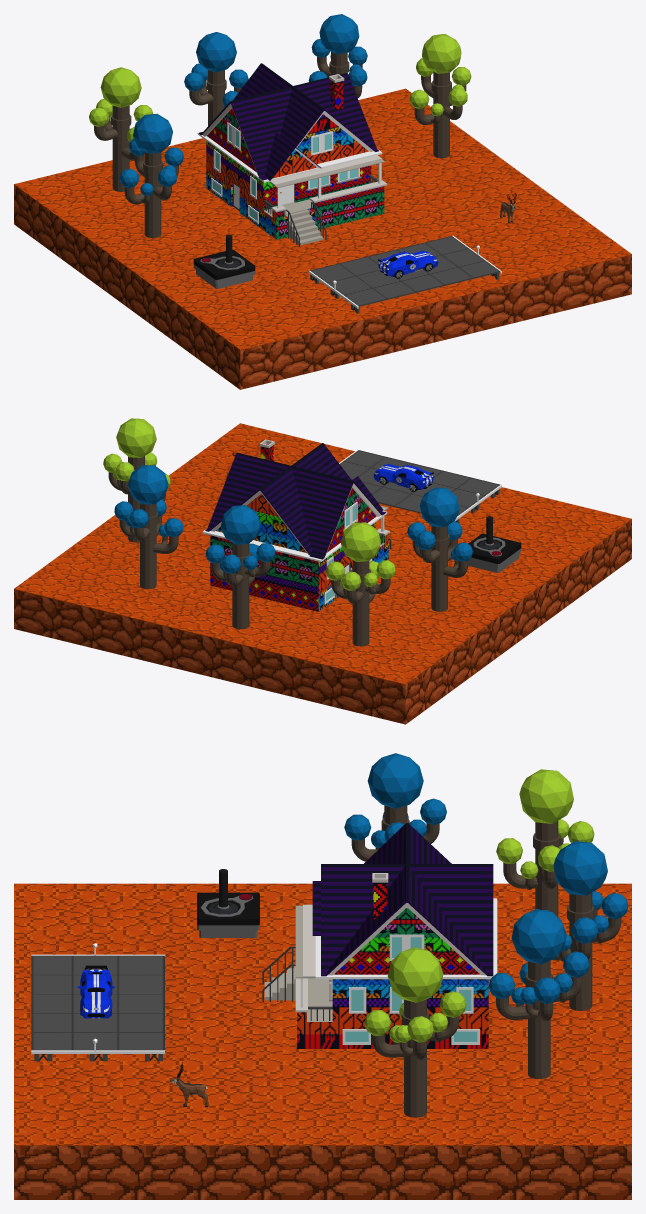
3 views of the same model, one above another, from view 1: azimuth 30°, elevation 25°; view 2: azimuth 150°, elevation 25°; view 3: azimuth 270°, elevation 25° (orthographic). The views are drawn at different scales.
Visible parts, largest first — view 1: Cube.001, Cube.966, OBJRANDOM_JOYSTICK, VEHICLES_RACING_CAR; view 2: Cube.001, Cube.966, OBJRANDOM_JOYSTICK, VEHICLES_RACING_CAR; view 3: Cube.001, Cube.966, OBJRANDOM_JOYSTICK, VEHICLES_RACING_CAR.
Part boxes in pixels (bbox=[...]): Cube.001: bbox=[14, 14, 631, 389]; Cube.966: bbox=[197, 63, 387, 246]; OBJRANDOM_JOYSTICK: bbox=[193, 234, 255, 288]; VEHICLES_RACING_CAR: bbox=[378, 250, 438, 278]; Cube.001: bbox=[14, 418, 631, 724]; Cube.966: bbox=[202, 439, 391, 611]; OBJRANDOM_JOYSTICK: bbox=[468, 516, 521, 572]; VEHICLES_RACING_CAR: bbox=[373, 464, 433, 491]; Cube.001: bbox=[14, 753, 631, 1199]; Cube.966: bbox=[262, 823, 497, 1048]; OBJRANDOM_JOYSTICK: bbox=[197, 869, 259, 937]; VEHICLES_RACING_CAR: bbox=[77, 965, 114, 1018].
Bounding box in the file's own units: 4000 × 1672 × 4000.
Materials: 42 (8 with a texture image).
